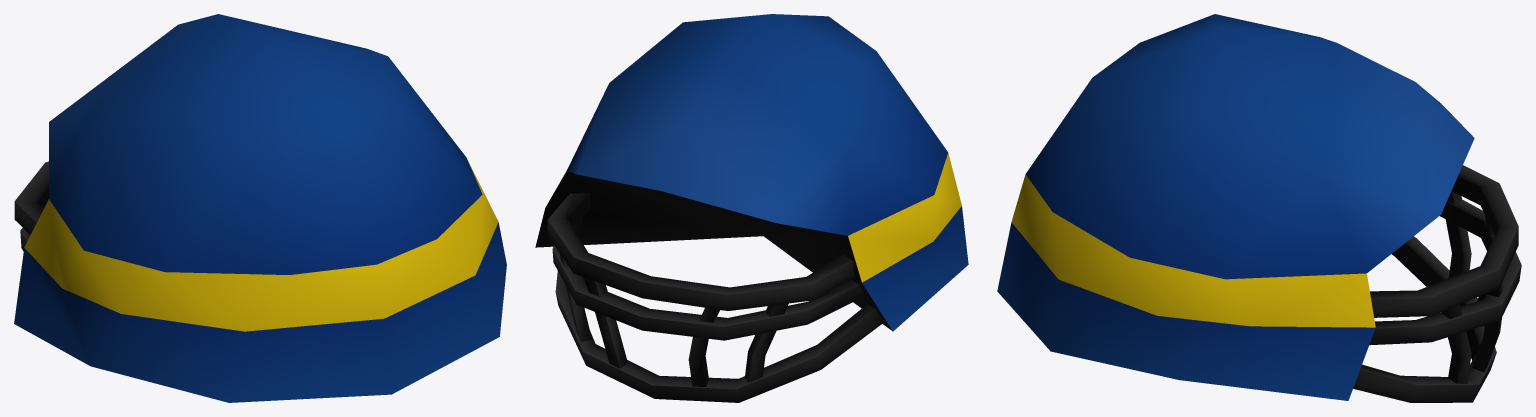
The model's file is hat_football.glb.
The picture shows the model from 3 angles, left to right: view 1: azimuth 30°, elevation 25°; view 2: azimuth 150°, elevation 25°; view 3: azimuth 270°, elevation 25°; orthographic projection. The views are drawn at different scales.
Parts seen in each view (by area): view 1: hat_football; view 2: hat_football; view 3: hat_football.
Part boxes in pixels (x1,y1,x2,y2): hat_football: [14, 14, 506, 402]; hat_football: [535, 14, 968, 402]; hat_football: [997, 14, 1521, 402].
Bounding box in the file's own units: 0.5203 × 0.4137 × 0.5738.
